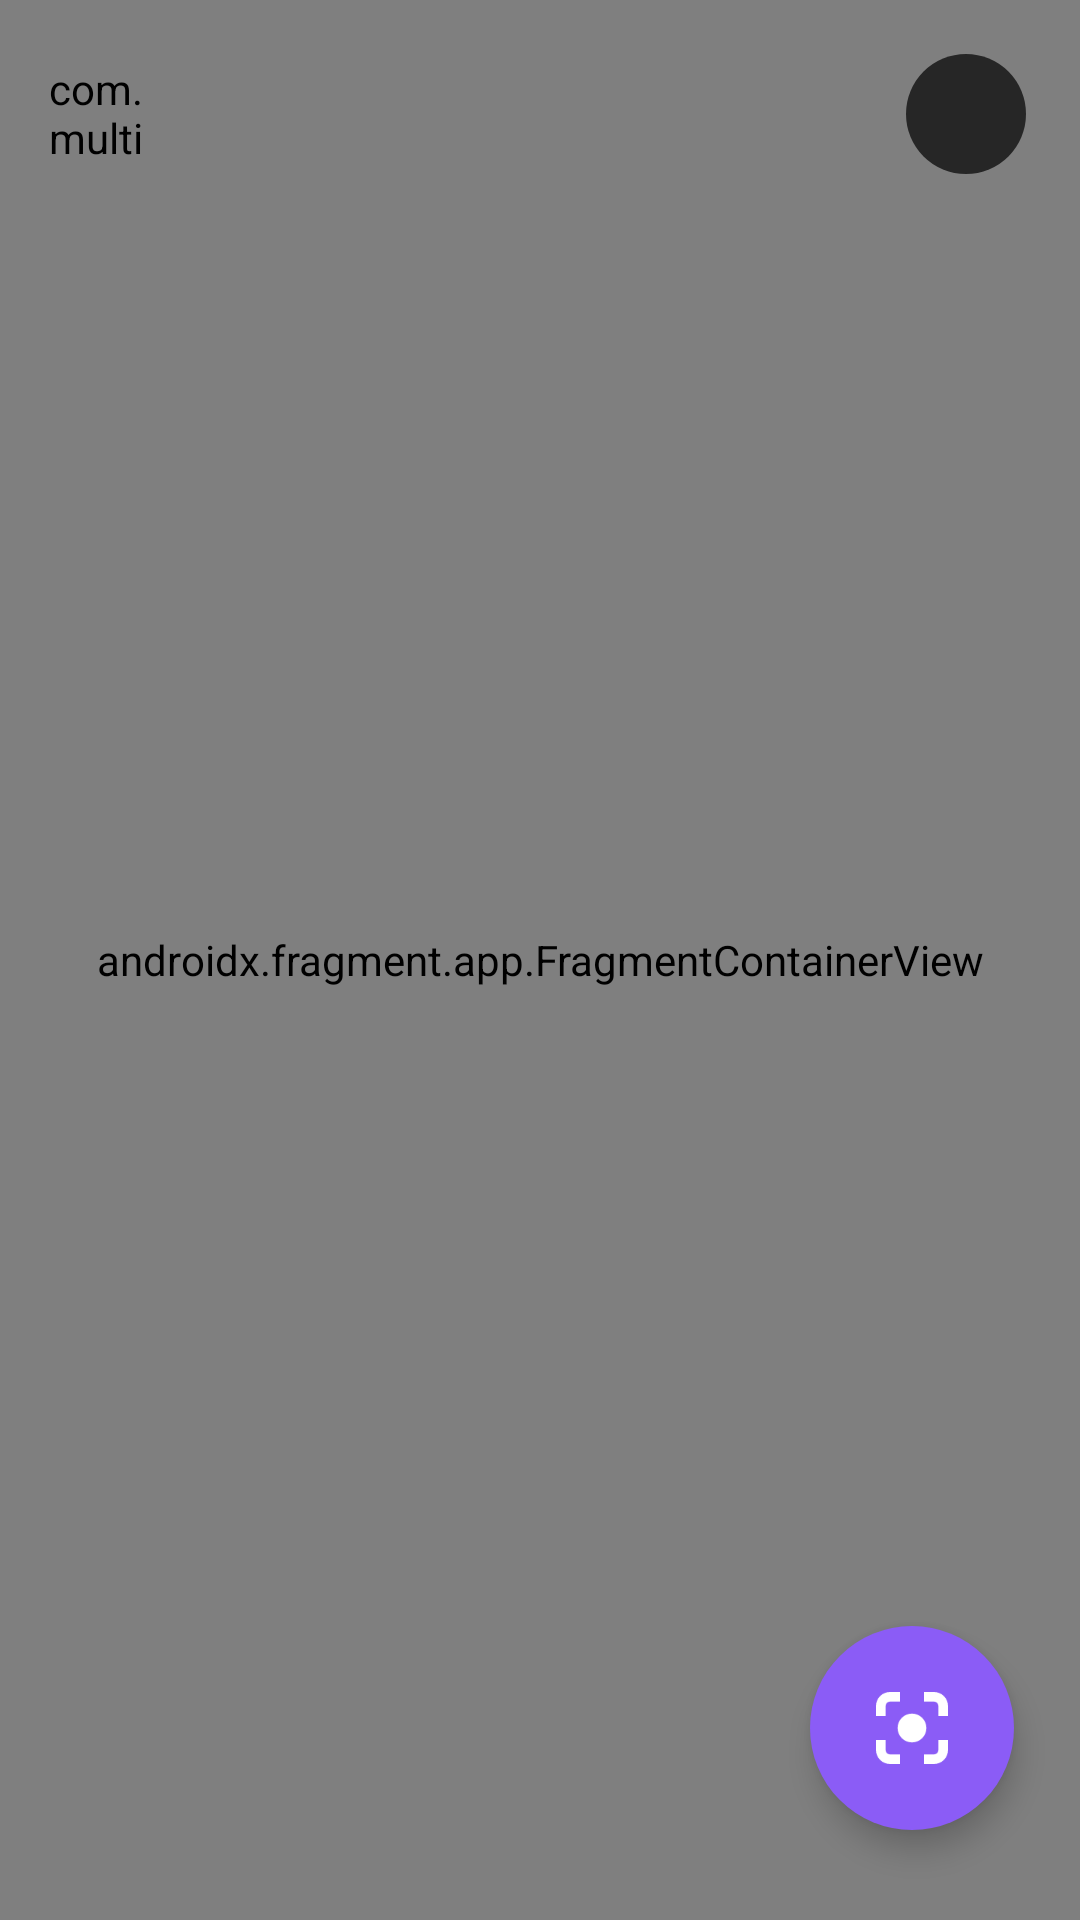

Named icons in this screenshot (1080*1920) and their centers, (x=x, y=y):
Localize: (x=912, y=1728)
